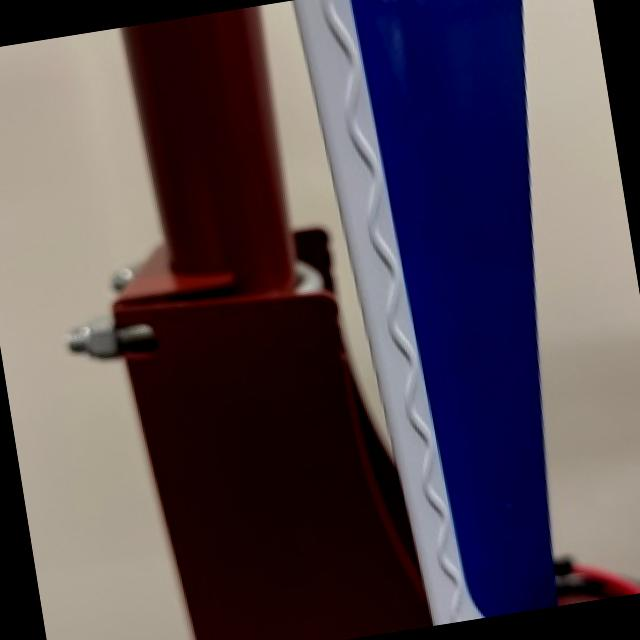healthy: (262, 1, 381, 433)
